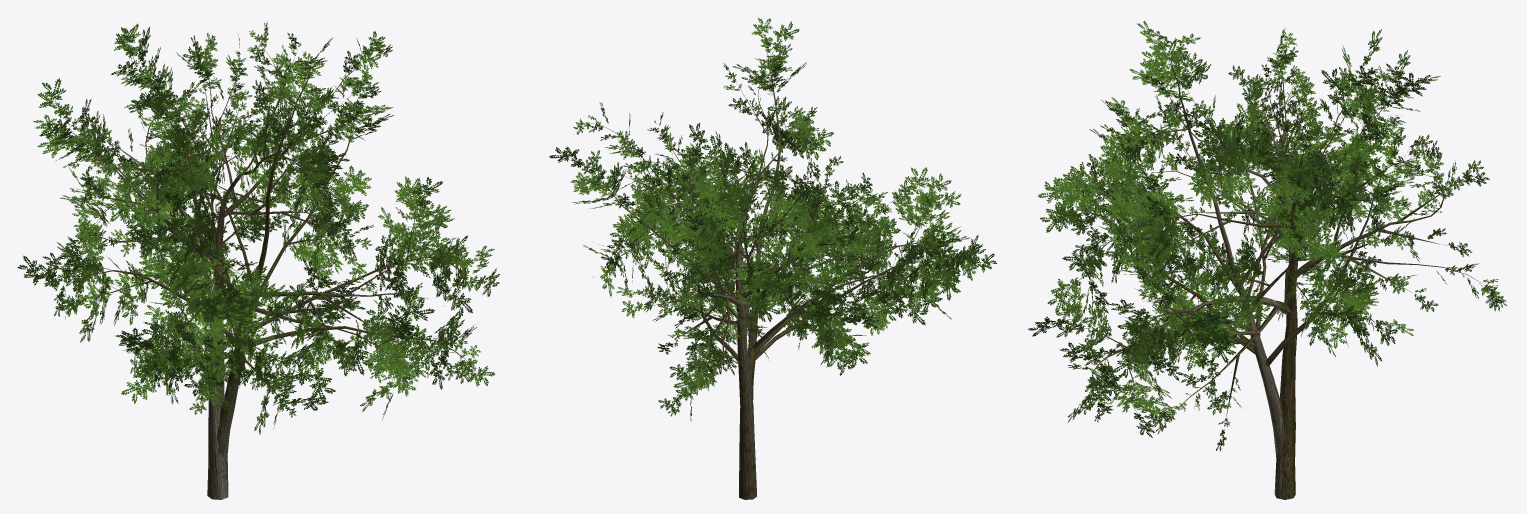
The model's file is mevali.glb.
3 views of the same model, side by side, from view 1: azimuth 30°, elevation 25°; view 2: azimuth 150°, elevation 25°; view 3: azimuth 270°, elevation 25° (orthographic). The views are drawn at different scales.
Parts seen in each view (by area): view 1: v0_leaf, v1_leaf, v1_bark, v0_bark; view 2: v0_leaf, v1_leaf, v1_bark, v0_bark; view 3: v0_leaf, v1_leaf, v1_bark, v0_bark.
Part boxes in pixels (box(x1,y1,x2,y2)): v0_leaf: box(17, 23, 500, 440); v1_leaf: box(55, 21, 451, 384); v1_bark: box(85, 48, 428, 499); v0_bark: box(64, 65, 470, 460); v0_leaf: box(549, 17, 996, 397); v1_leaf: box(573, 53, 914, 420); v1_bark: box(601, 77, 884, 499); v0_bark: box(594, 52, 957, 399); v0_leaf: box(1028, 20, 1440, 437); v1_leaf: box(1105, 28, 1507, 451); v1_bark: box(1128, 66, 1482, 499); v0_bark: box(1080, 49, 1395, 461).
Bounding box in the file's own units: 6.01 × 6.5 × 5.84.
Materials: 2 (2 with a texture image).
